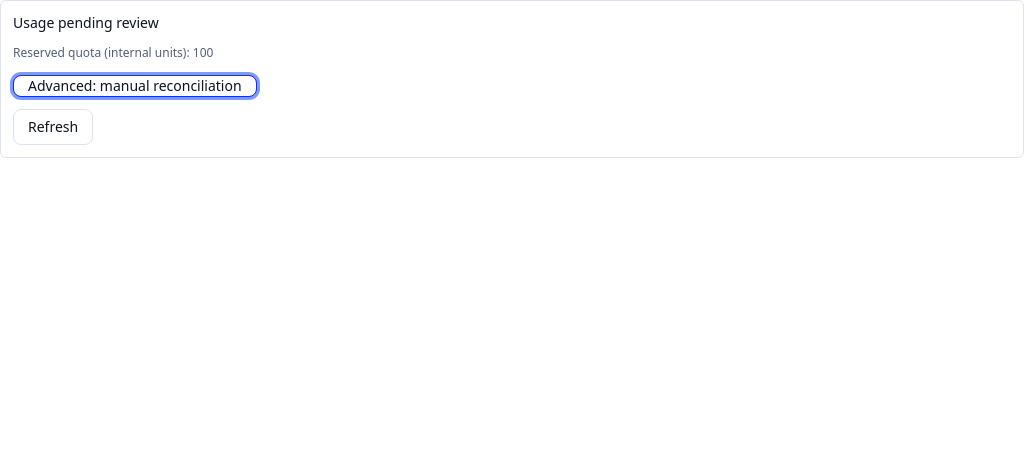
Test: manual review requires an explicit keyboard expansion and collapsing never submits
The image size is (1024, 457).
Expected: the field labelled "Confirmed quota (internal units)" is not shown
Step 1. Press Enter
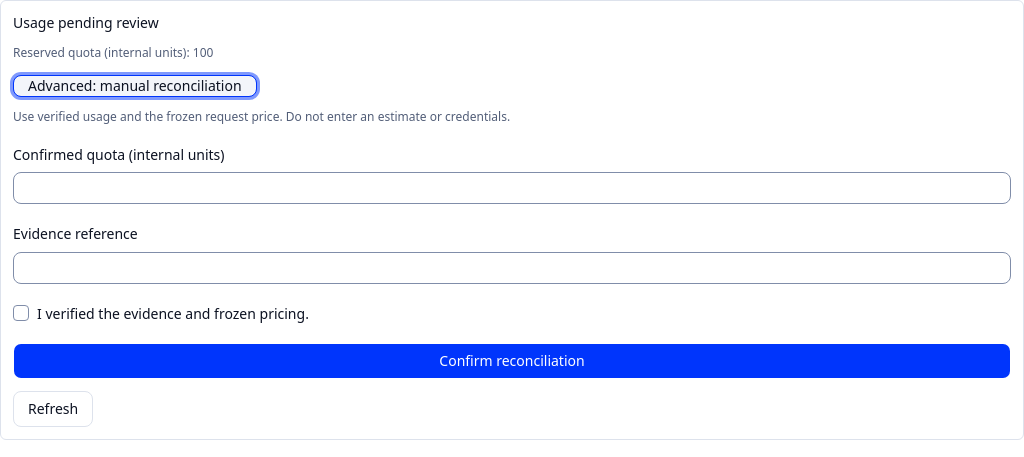
Expected: the field labelled "Confirmed quota (internal units)" is empty, x1=13 y1=172 x2=1011 y2=204
Expected: the field labelled "Evidence reference" is empty, x1=13 y1=252 x2=1011 y2=284
Step 2. Click the button "Advanced: manual reconciliation" → coordinates (135, 86), box x1=13 y1=75 x2=257 y2=97
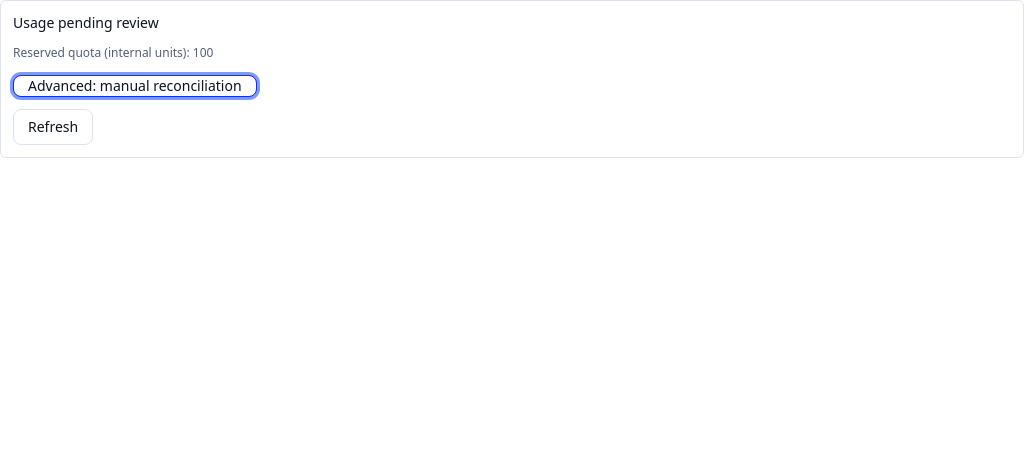
Result: the label labelled "Evidence reference" is gone
